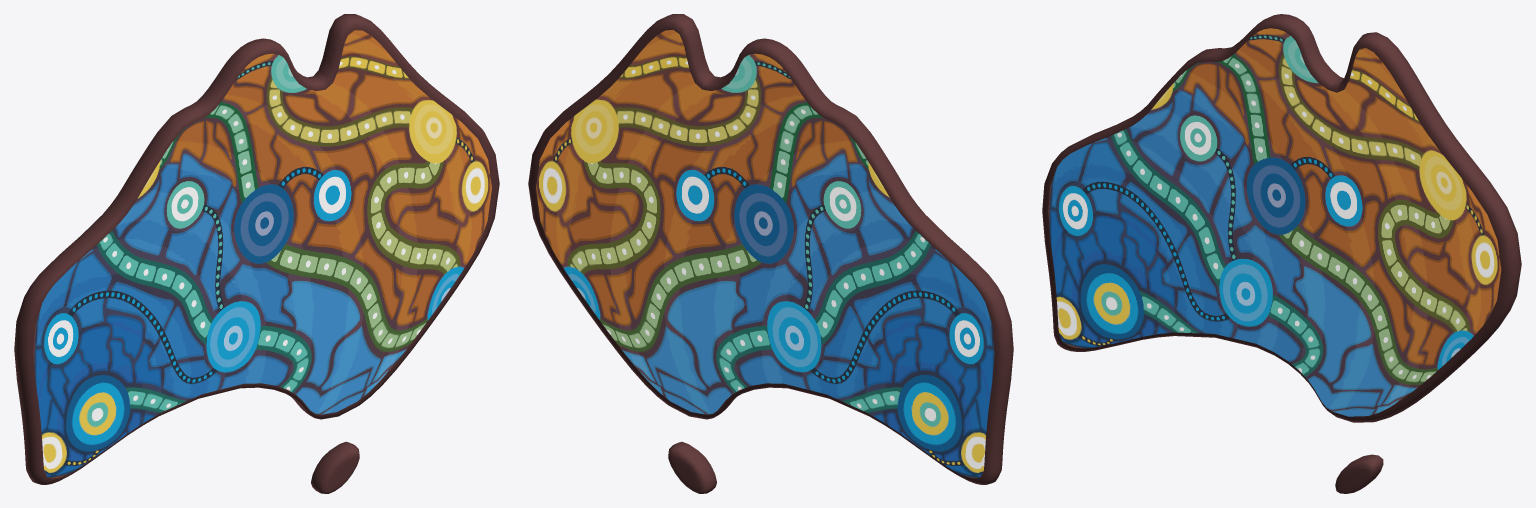
Rendered from Side5-Text7-AboriginalWorkforce.gltf.
The picture shows the model from 3 angles, left to right: view 1: azimuth 30°, elevation 25°; view 2: azimuth 150°, elevation 25°; view 3: azimuth 330°, elevation 25°; orthographic projection.
Visible parts, largest first — view 1: AUNZ; view 2: AUNZ; view 3: AUNZ.
Boxes of the visible parts, left/top/right/bottom form: AUNZ: left=14, top=14, right=499, bottom=493; AUNZ: left=528, top=14, right=1013, bottom=493; AUNZ: left=1042, top=14, right=1521, bottom=493.
Size of the model in its own units: 17.9 by 16.7 by 0.8359.
2 materials, 1 textured.
